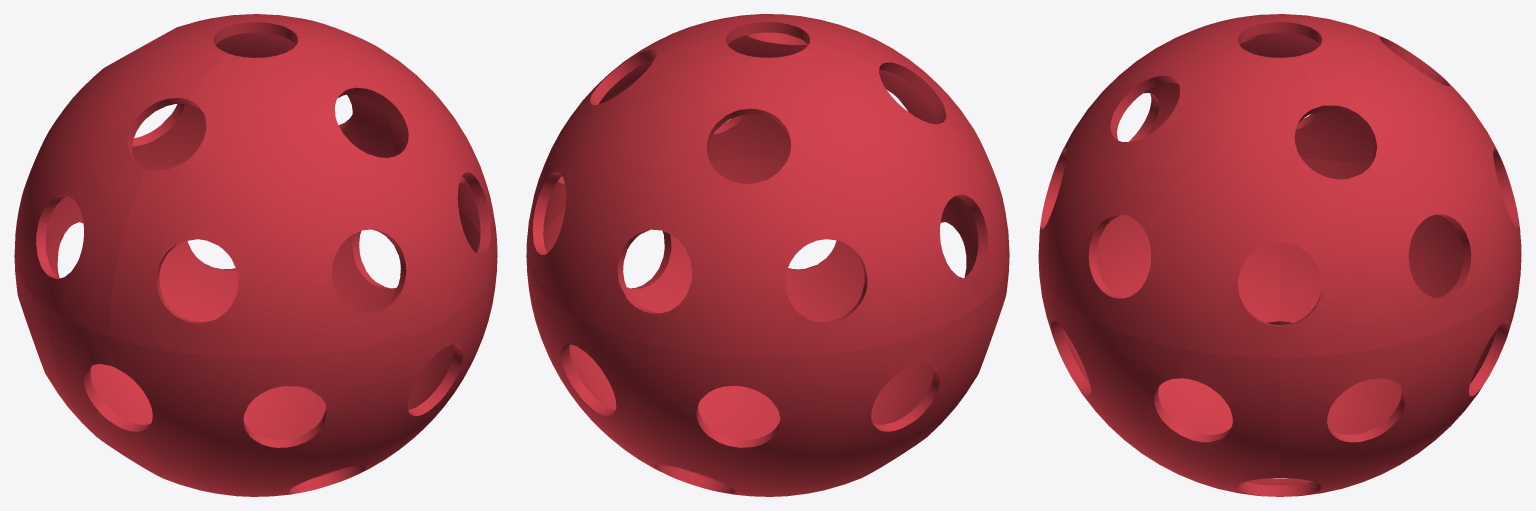
The model's file is nectar-red.glb.
3 renders of one model, left to right at view 1: azimuth 30°, elevation 25°; view 2: azimuth 150°, elevation 25°; view 3: azimuth 270°, elevation 25°, orthographic.
Size of the model in its own units: 0.0919 by 0.0905 by 0.0919.
